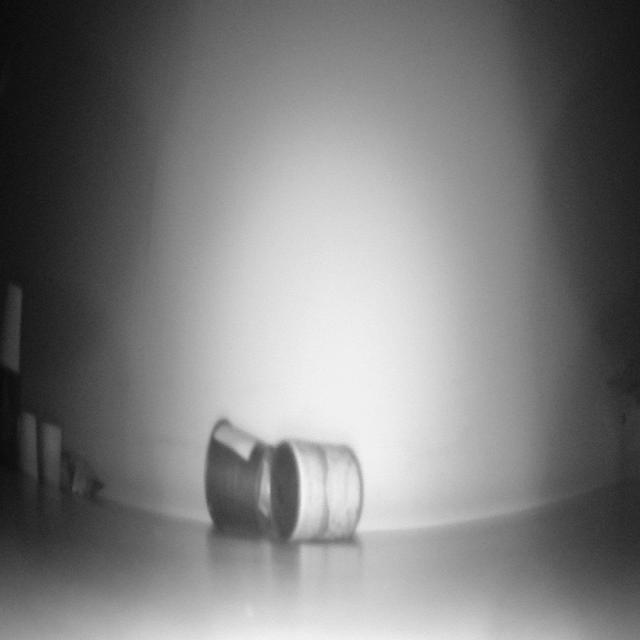targets: (207, 415, 364, 544), (12, 416, 94, 508), (0, 295, 29, 480)
